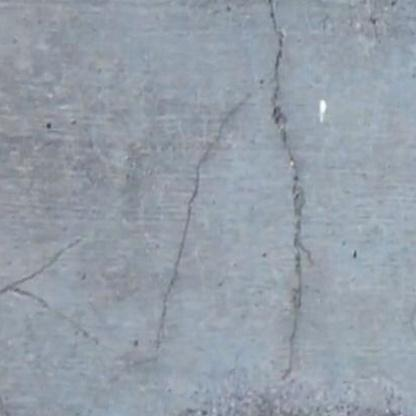Cracks: (148, 0, 317, 389), (0, 236, 109, 357), (0, 348, 37, 416), (404, 292, 416, 349)
